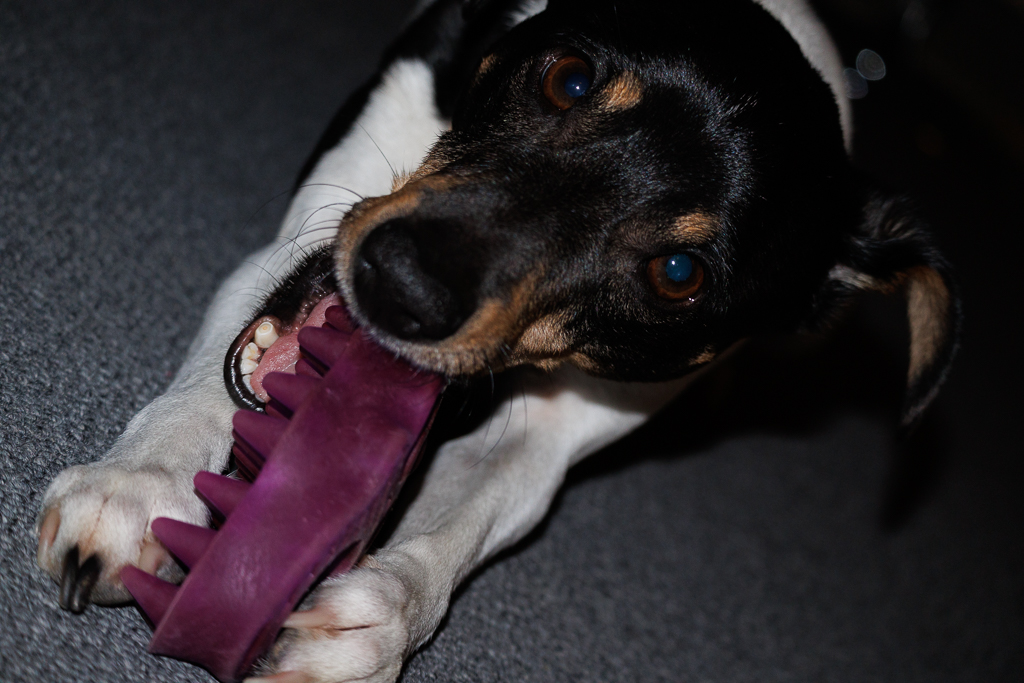Dog: (29, 0, 1024, 683)
